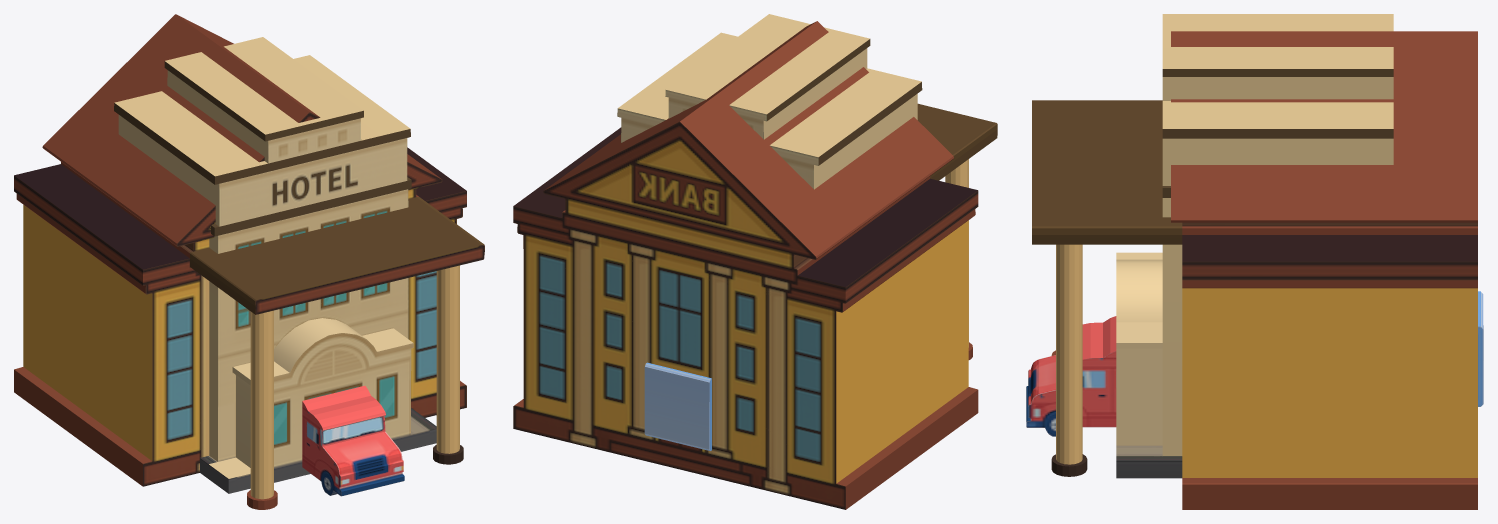
File: carto.glb
3 renders of one model, left to right at view 1: azimuth 30°, elevation 25°; view 2: azimuth 150°, elevation 25°; view 3: azimuth 270°, elevation 25°, orthographic. The views are drawn at different scales.
Visible parts, largest first — view 1: Cube_015, Cube_014, Cube_036; view 2: Cube_015, Cube_014, Cube_036; view 3: Cube_015, Cube_014, Cube_036.
Part boxes in pixels (box(x1,y1,x2,y2)): Cube_015: box(14, 14, 484, 509); Cube_014: box(114, 37, 436, 493); Cube_036: box(302, 385, 404, 496); Cube_015: box(513, 21, 997, 509); Cube_014: box(617, 14, 922, 189); Cube_036: box(644, 362, 711, 450); Cube_015: box(1032, 31, 1477, 509); Cube_014: box(1116, 14, 1393, 478); Cube_036: box(1026, 291, 1483, 436).
Bounding box in the file's own units: 2.58 × 2.58 × 2.75.
32 materials, 32 textured.
